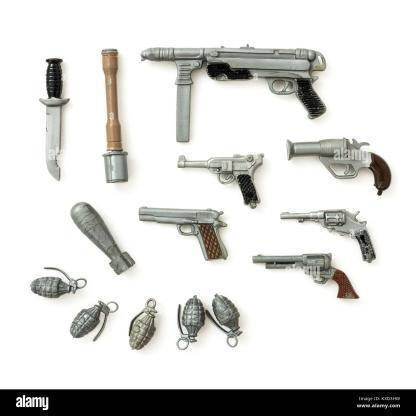Grenade: (100, 46, 130, 185), (68, 298, 120, 345), (206, 290, 248, 348), (26, 265, 87, 301), (128, 297, 161, 352), (176, 294, 207, 352)
Gun: (139, 41, 327, 145)
Knife: (37, 56, 72, 184)
Pistol: (284, 136, 394, 198), (250, 250, 361, 302), (277, 207, 378, 264), (137, 203, 231, 263), (177, 151, 267, 211)
